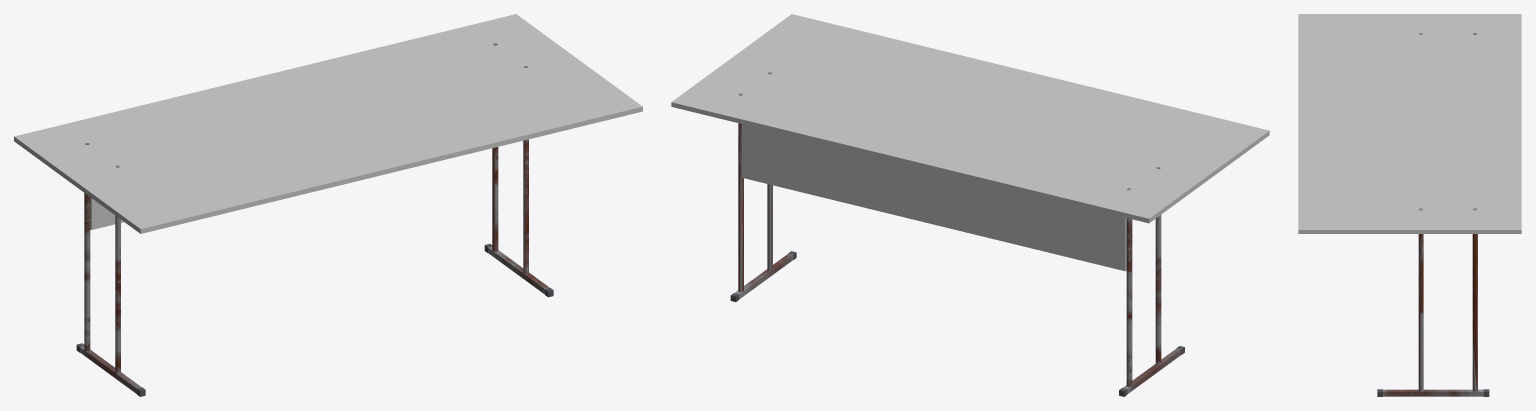
Rendered from Desk.fbx.
3 views of the same model, side by side, from view 1: azimuth 30°, elevation 25°; view 2: azimuth 150°, elevation 25°; view 3: azimuth 270°, elevation 25° (orthographic). The views are drawn at different scales.
Parts seen in each view (by area): view 1: Cube, Cylinder, Cube.003, Cube.001; view 2: Cube, Cube.001, Cylinder, Cube.003; view 3: Cube, Cylinder, Cube.003.
Boxes of the visible parts, box(x1,y1,x2,y2) form: Cube: box(14, 14, 642, 233); Cylinder: box(84, 139, 528, 373); Cube.003: box(80, 246, 549, 393); Cube.001: box(90, 197, 123, 229); Cube: box(671, 14, 1269, 223); Cube.001: box(742, 124, 1126, 271); Cylinder: box(738, 123, 1161, 386); Cube.003: box(734, 253, 1181, 393); Cube: box(1298, 14, 1521, 233); Cylinder: box(1418, 234, 1477, 391); Cube.003: box(1383, 389, 1483, 396).
Size of the model in its own units: 12.07 by 4.87 by 5.27.
